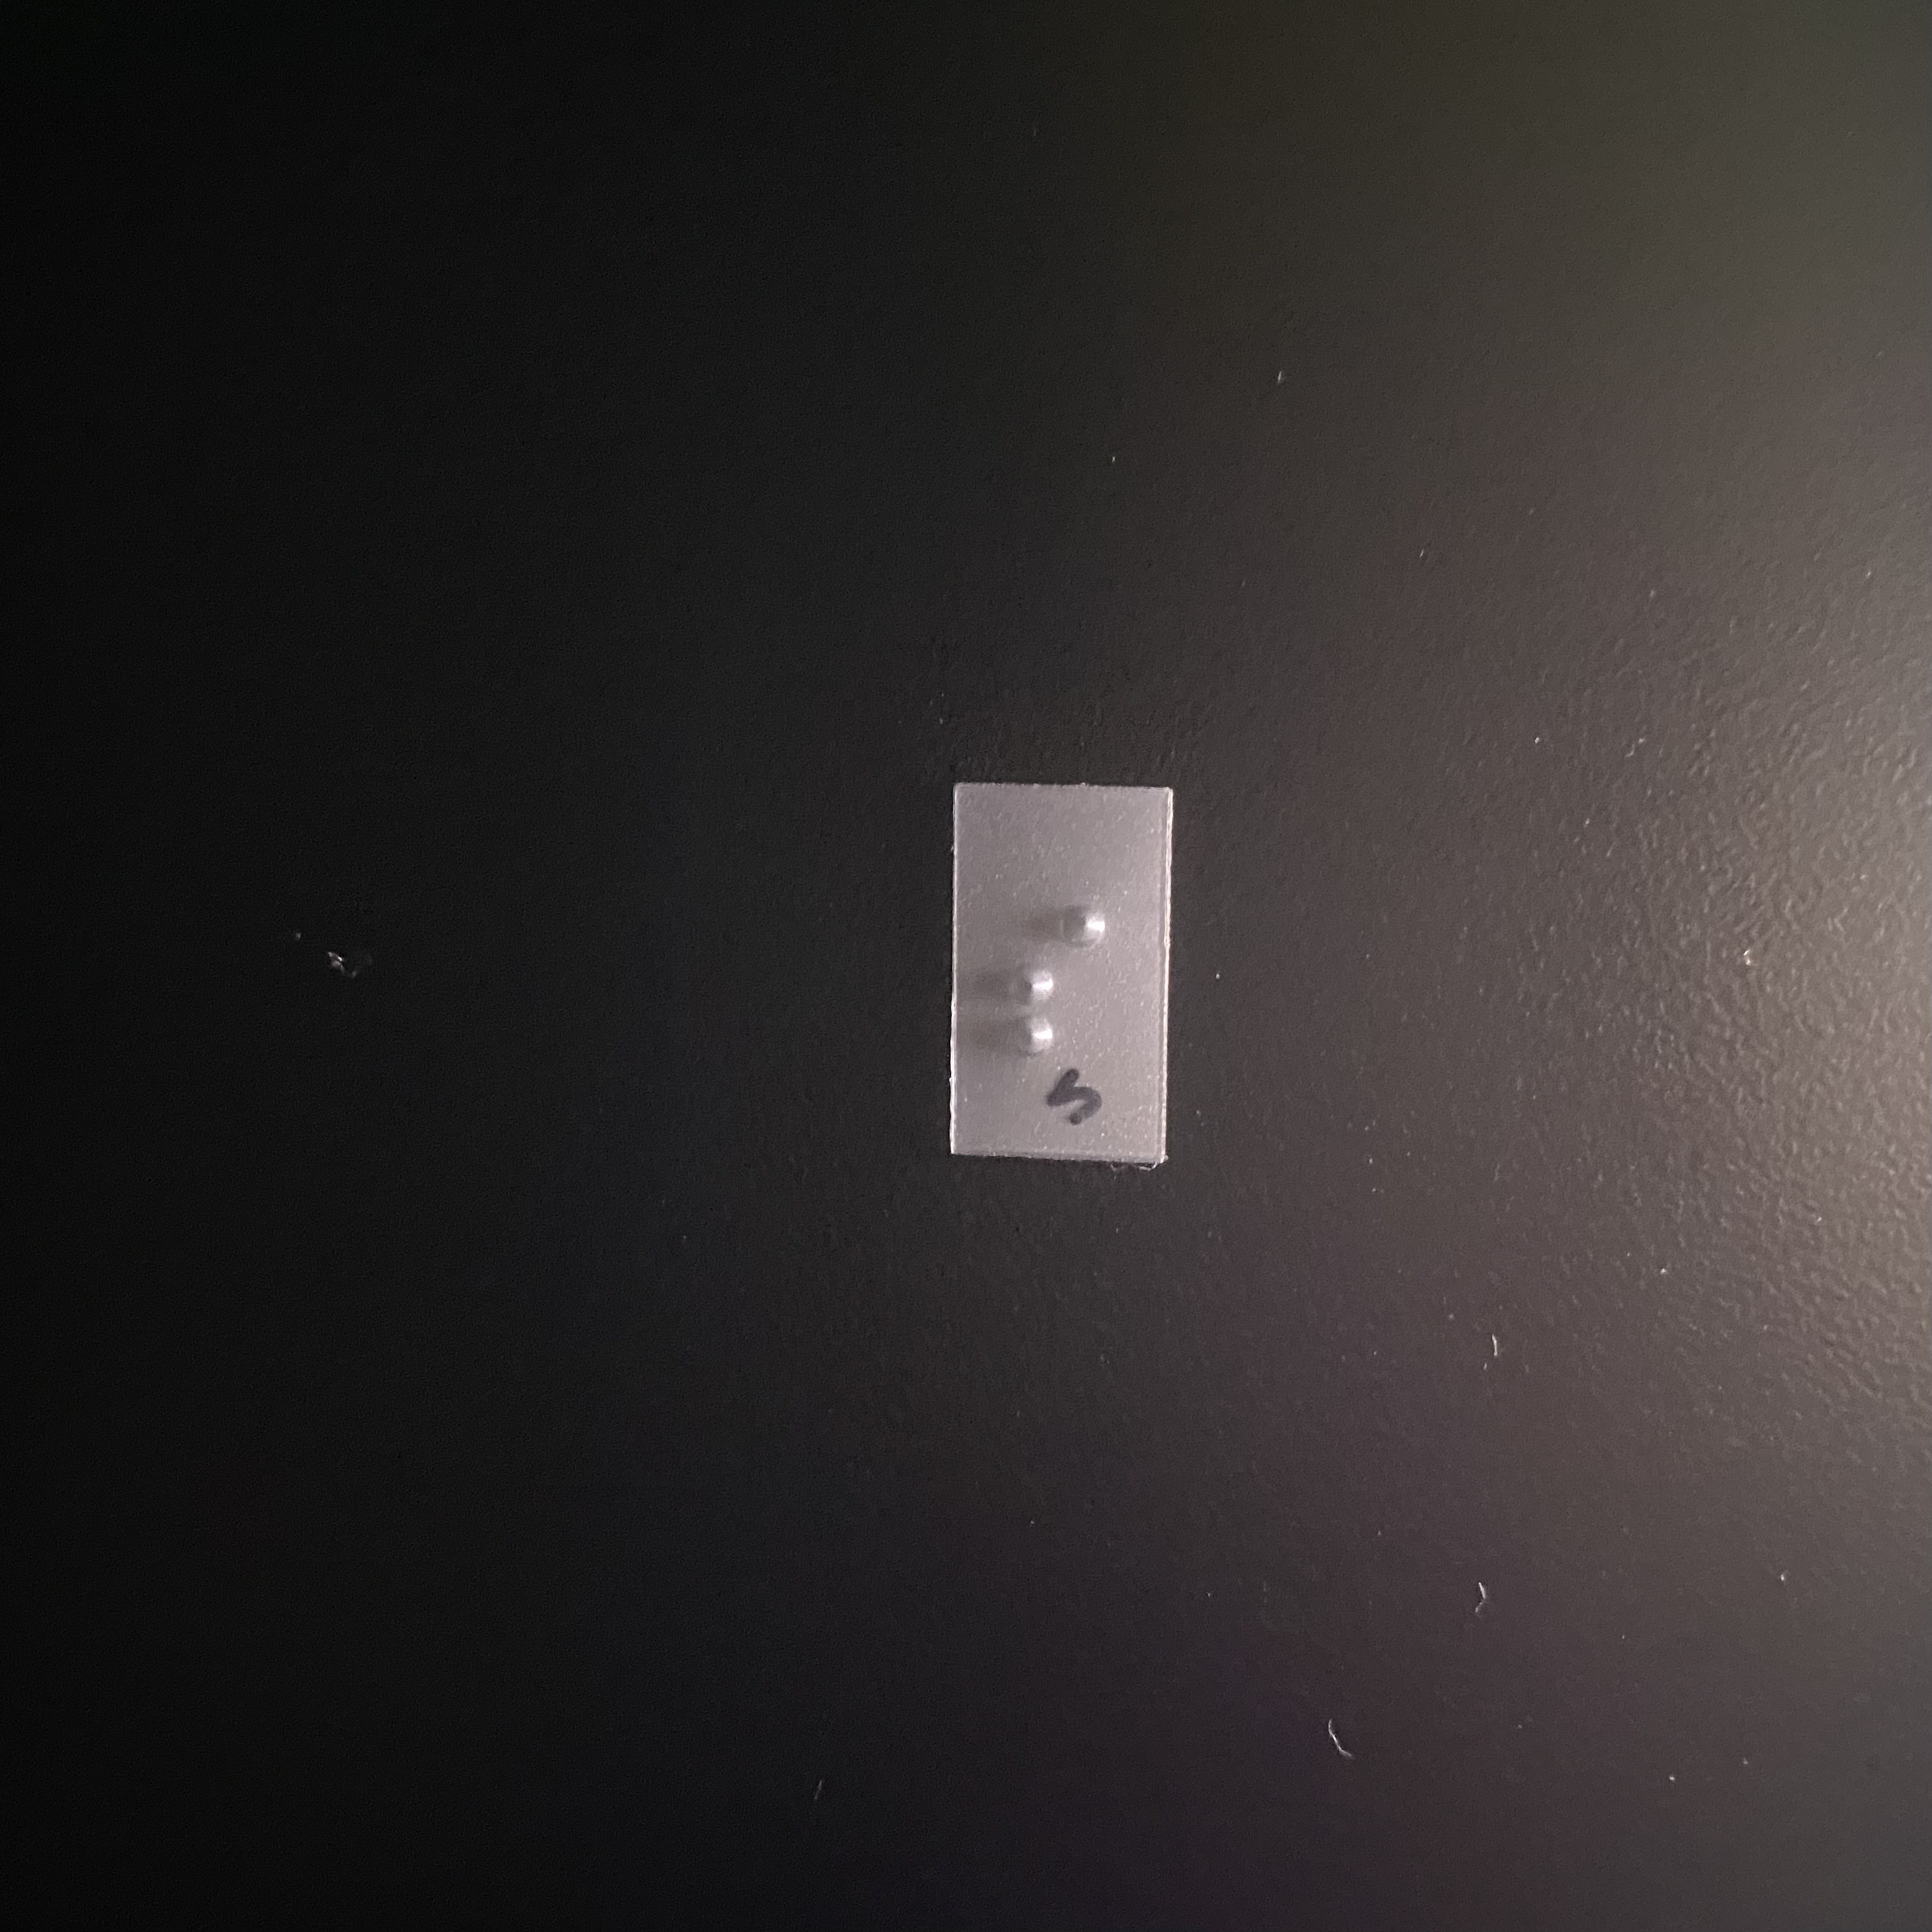s: (984, 900, 1124, 1071)
